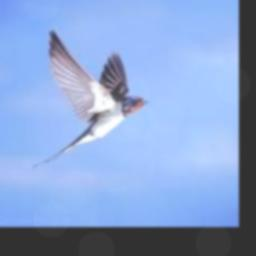Swallow: (32, 29, 147, 167)
